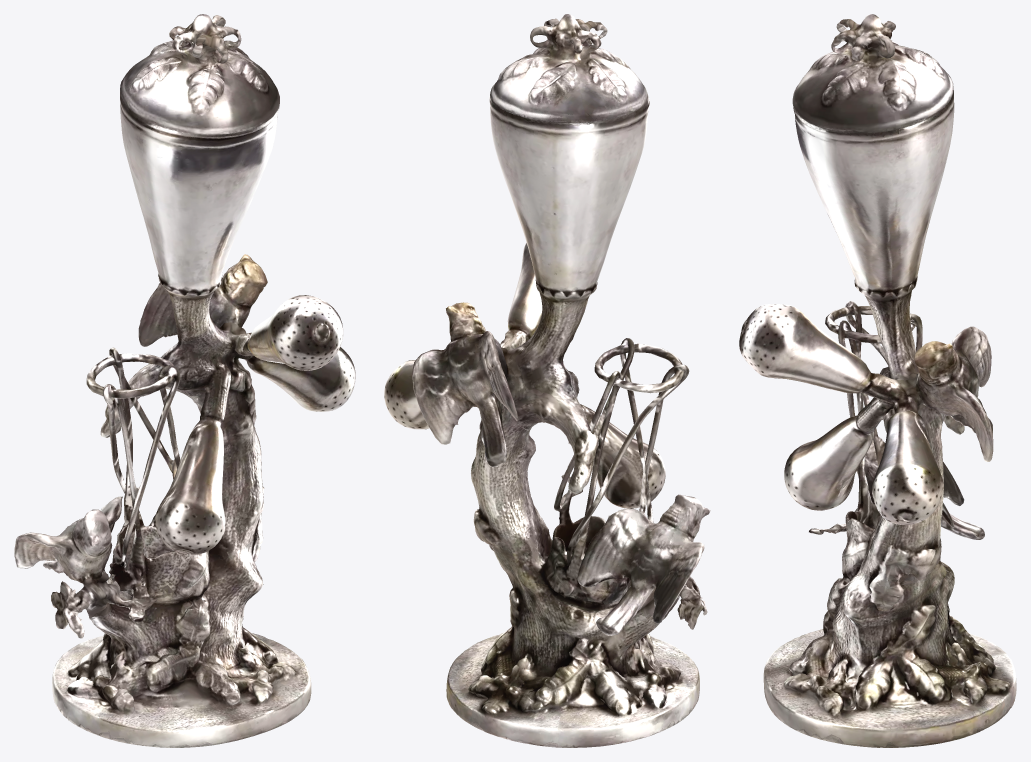
Rendered from preview.glb.
The picture shows the model from 3 angles, left to right: view 1: azimuth 30°, elevation 25°; view 2: azimuth 150°, elevation 25°; view 3: azimuth 270°, elevation 25°; orthographic projection. The views are drawn at different scales.
Visible parts, largest first — view 1: foto3D_3D_270VII_Puszka_na_wonnosci_07 - Default_0; view 2: foto3D_3D_270VII_Puszka_na_wonnosci_07 - Default_0; view 3: foto3D_3D_270VII_Puszka_na_wonnosci_07 - Default_0.
Part boxes in pixels (box(x1,y1,x2,y2)): foto3D_3D_270VII_Puszka_na_wonnosci_07 - Default_0: box(14, 14, 355, 747); foto3D_3D_270VII_Puszka_na_wonnosci_07 - Default_0: box(384, 14, 710, 747); foto3D_3D_270VII_Puszka_na_wonnosci_07 - Default_0: box(739, 14, 1016, 747).
Size of the model in its own units: 129 by 262 by 95.99.
Materials: 1 (1 with a texture image).
